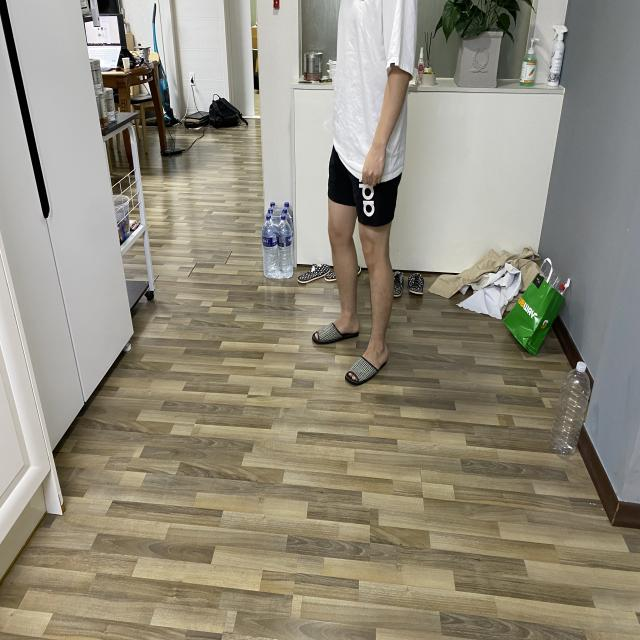no-boots: (337, 338, 415, 392), (299, 306, 362, 349)
